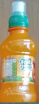orange: (1, 1, 37, 103)
